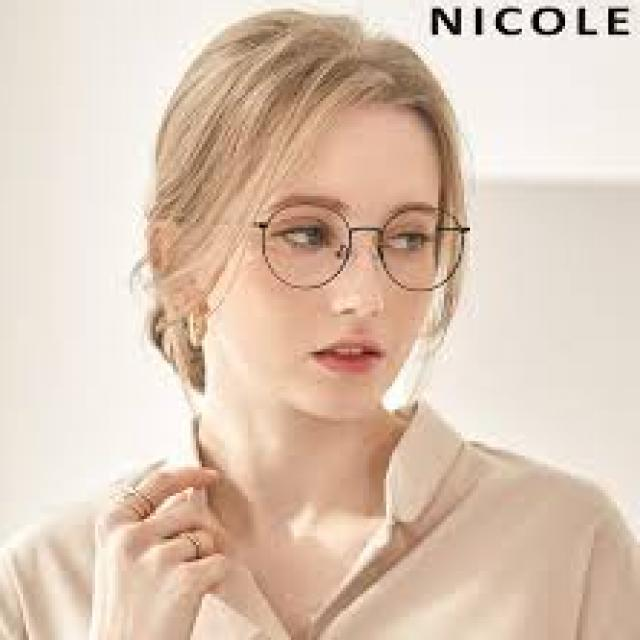Glasses: (247, 190, 479, 301)
